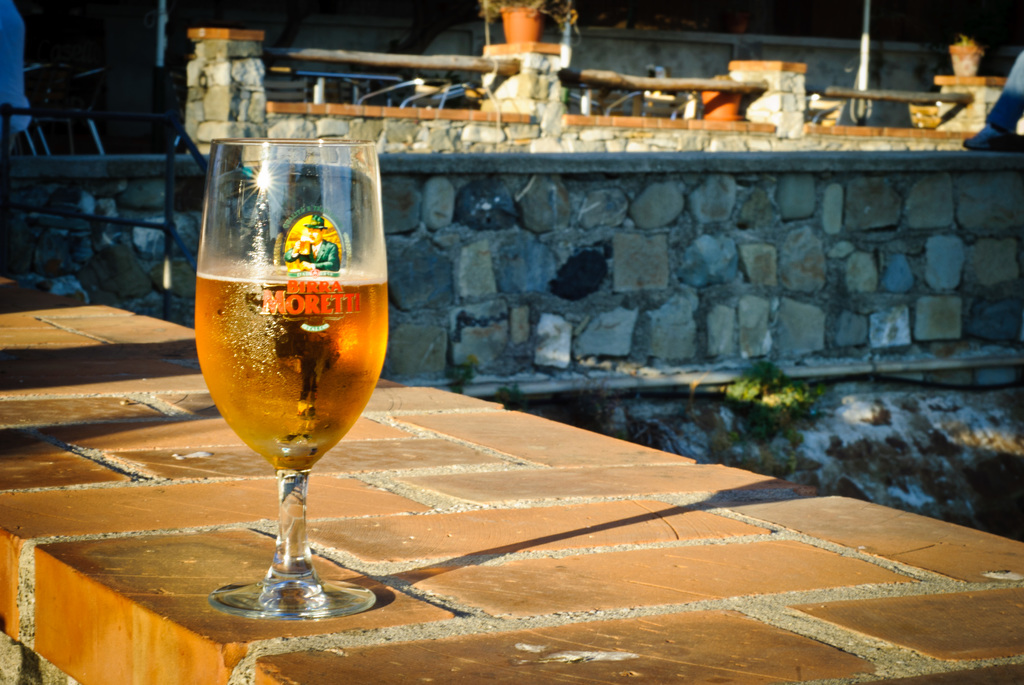Beer: (196, 270, 384, 469)
